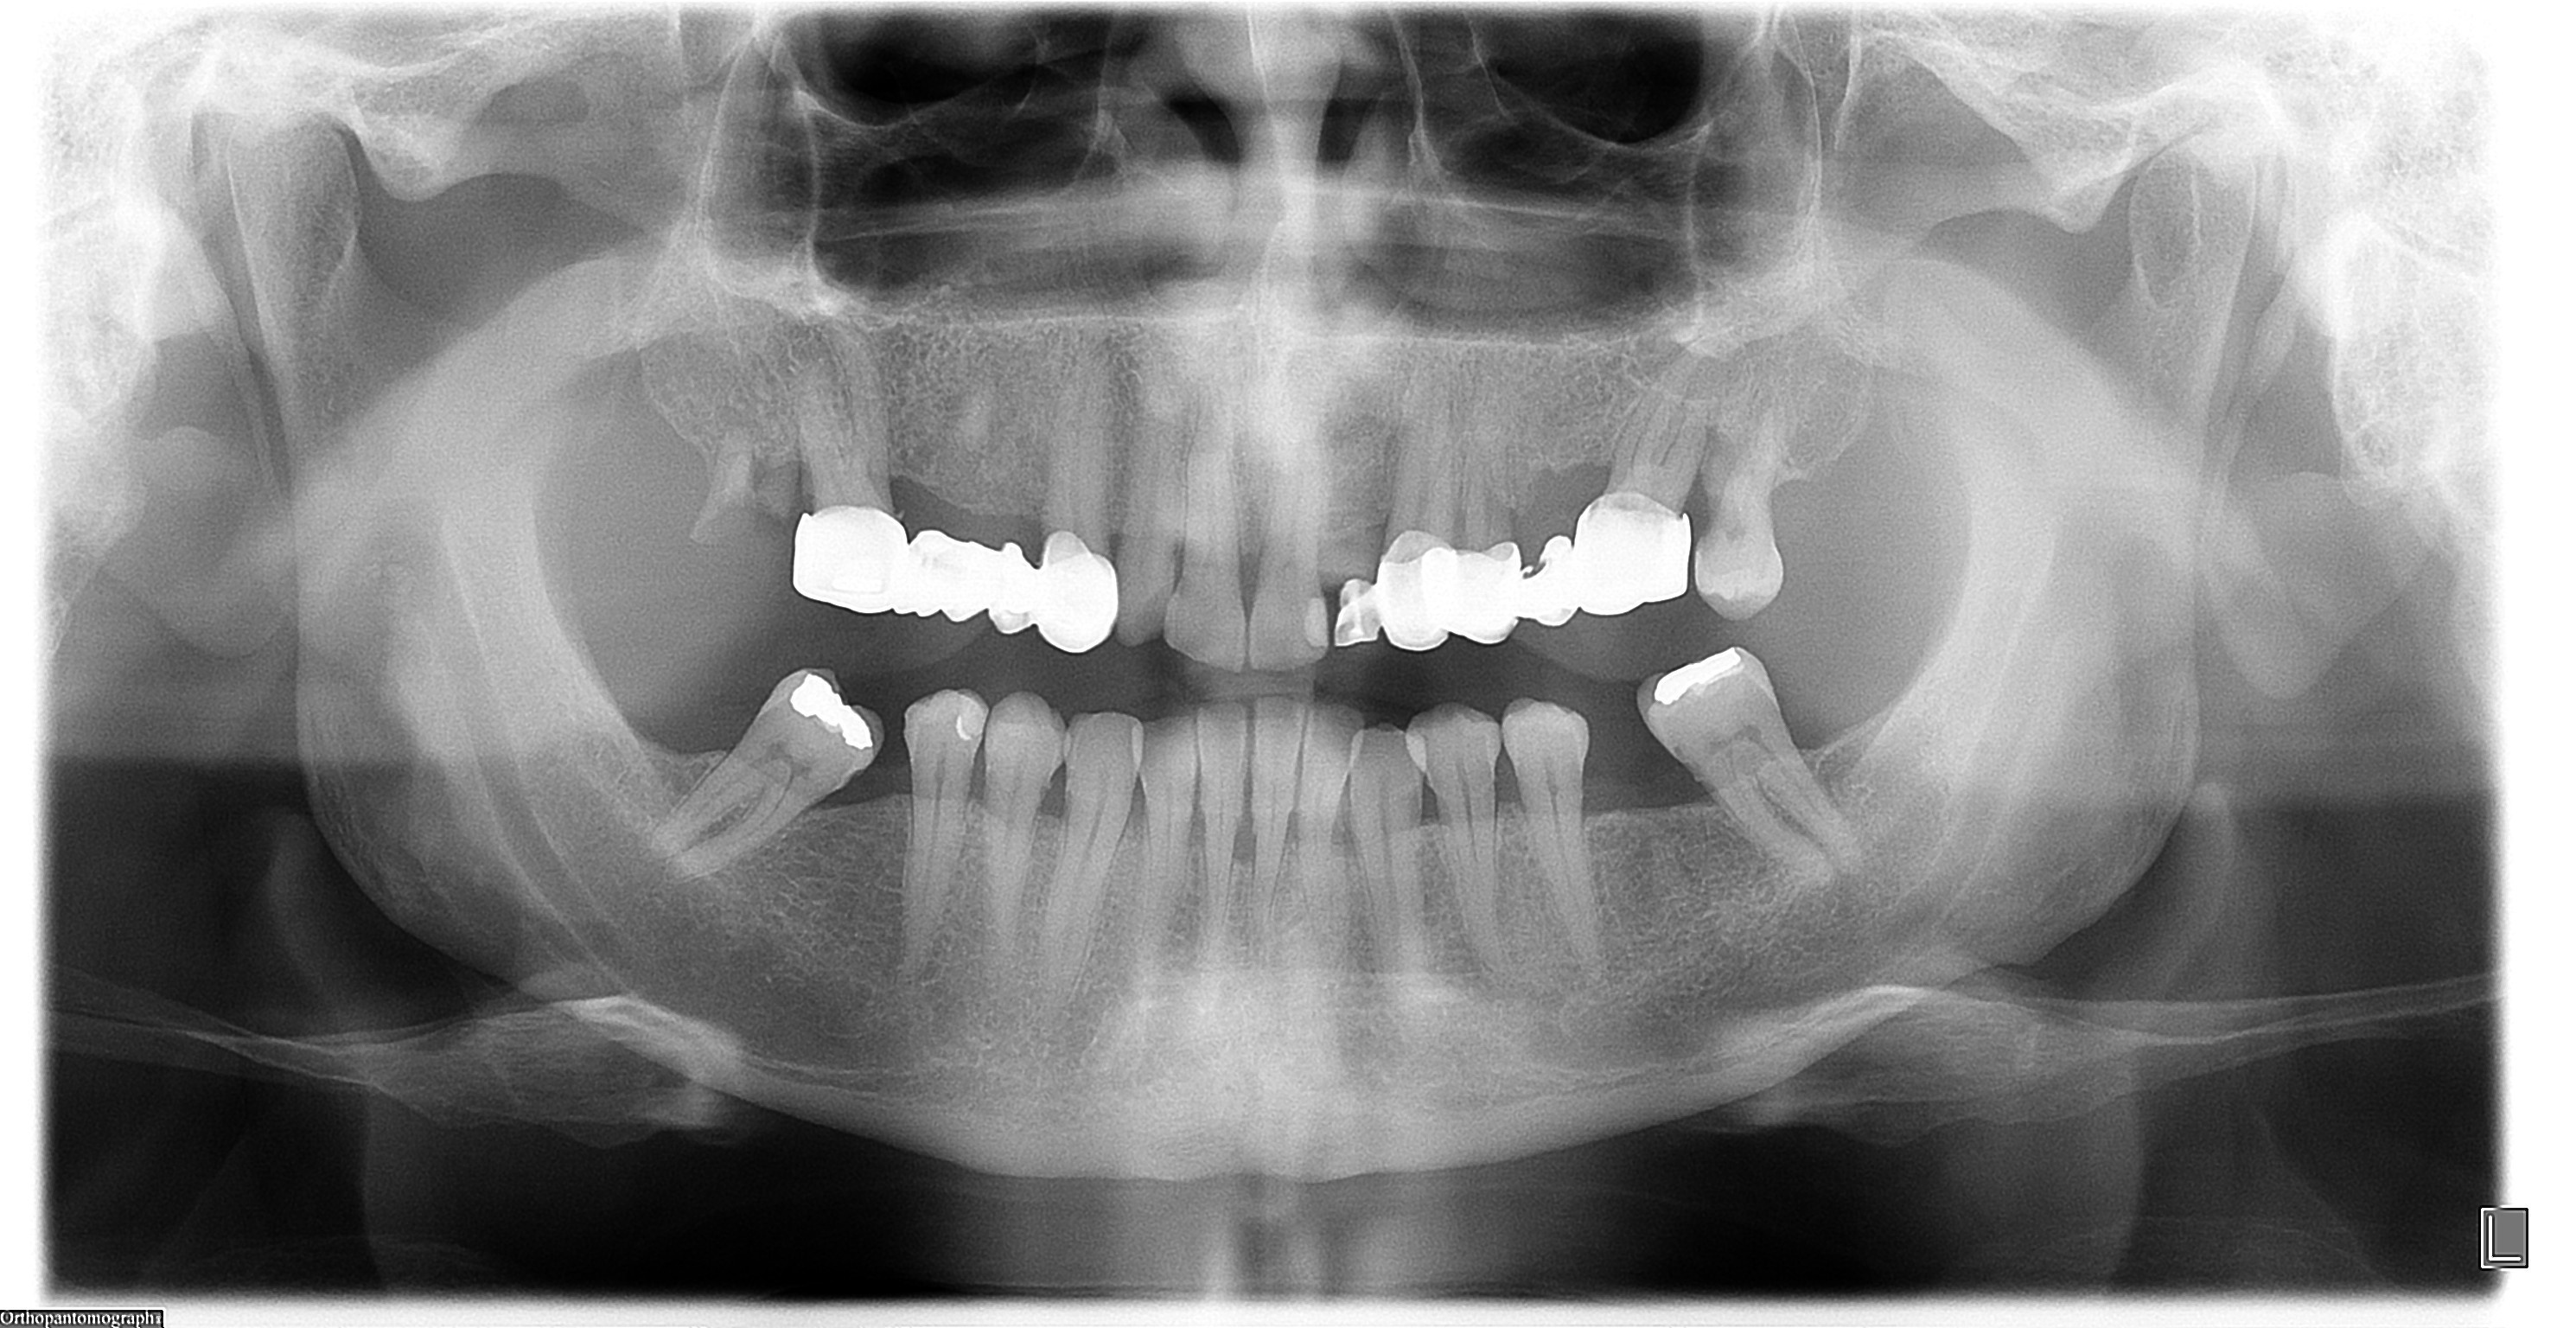CAR: (841, 769, 865, 786)
OBT: (790, 674, 872, 749)
PRR: (1335, 491, 1693, 650)
ROT: (689, 425, 801, 544)
